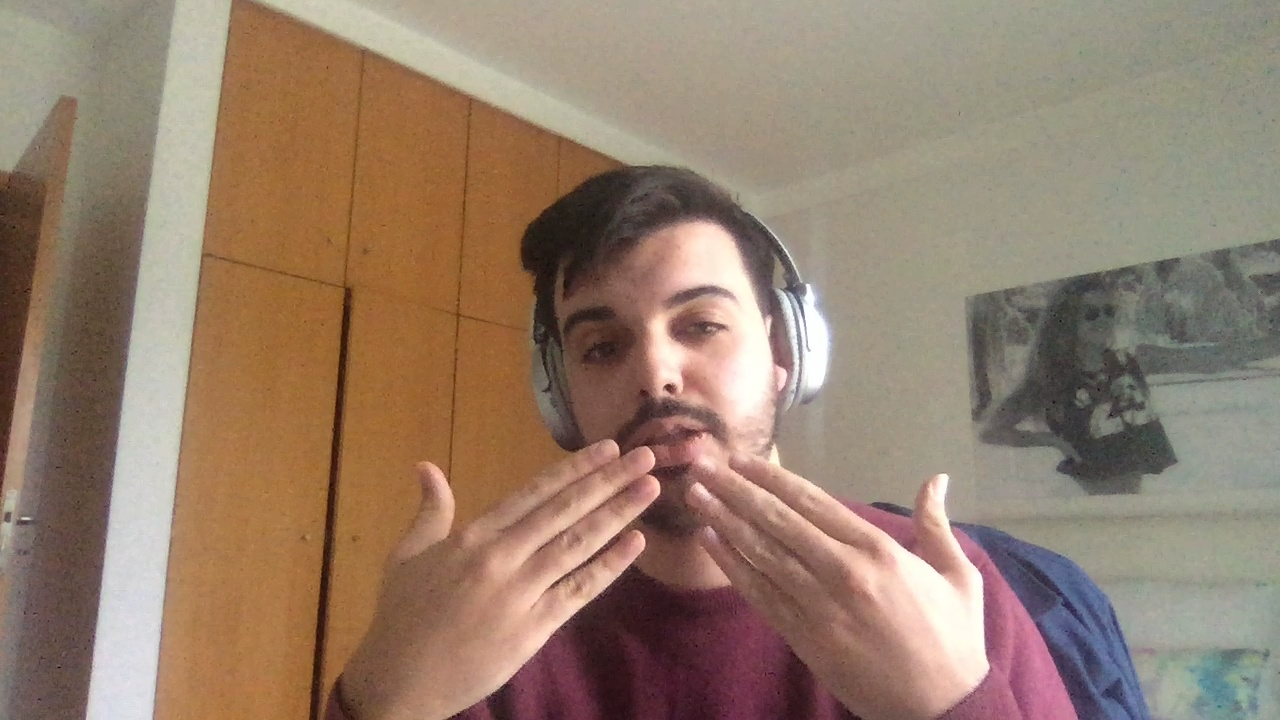ThankYou: (378, 439, 981, 684)
